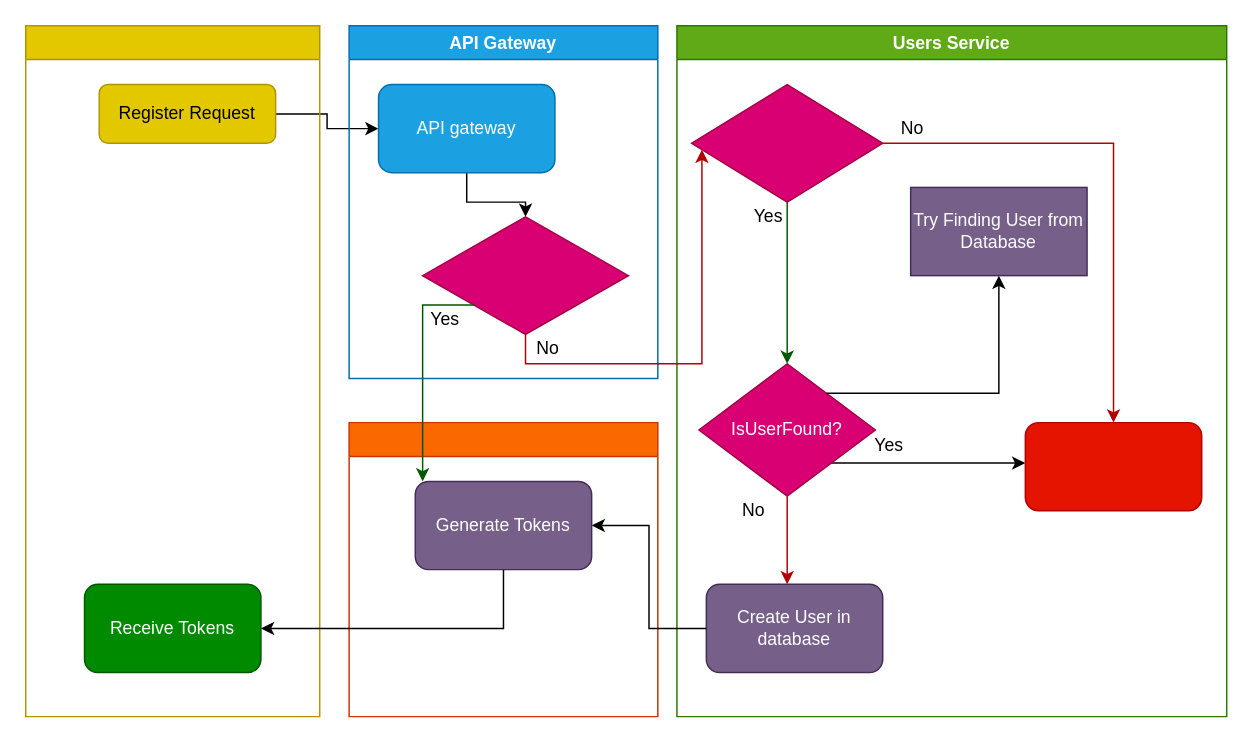
Some shapes in this 1252 by 742 pixel diagram are drawn without their labels. Each missing label, with the box of its shape:
Auth Service: (348, 421, 658, 717)
IsAuthenticated?: (421, 215, 628, 334)
IsRequestValid?: (690, 83, 883, 202)
Register failed: (1024, 421, 1202, 511)
User: (24, 24, 320, 717)
